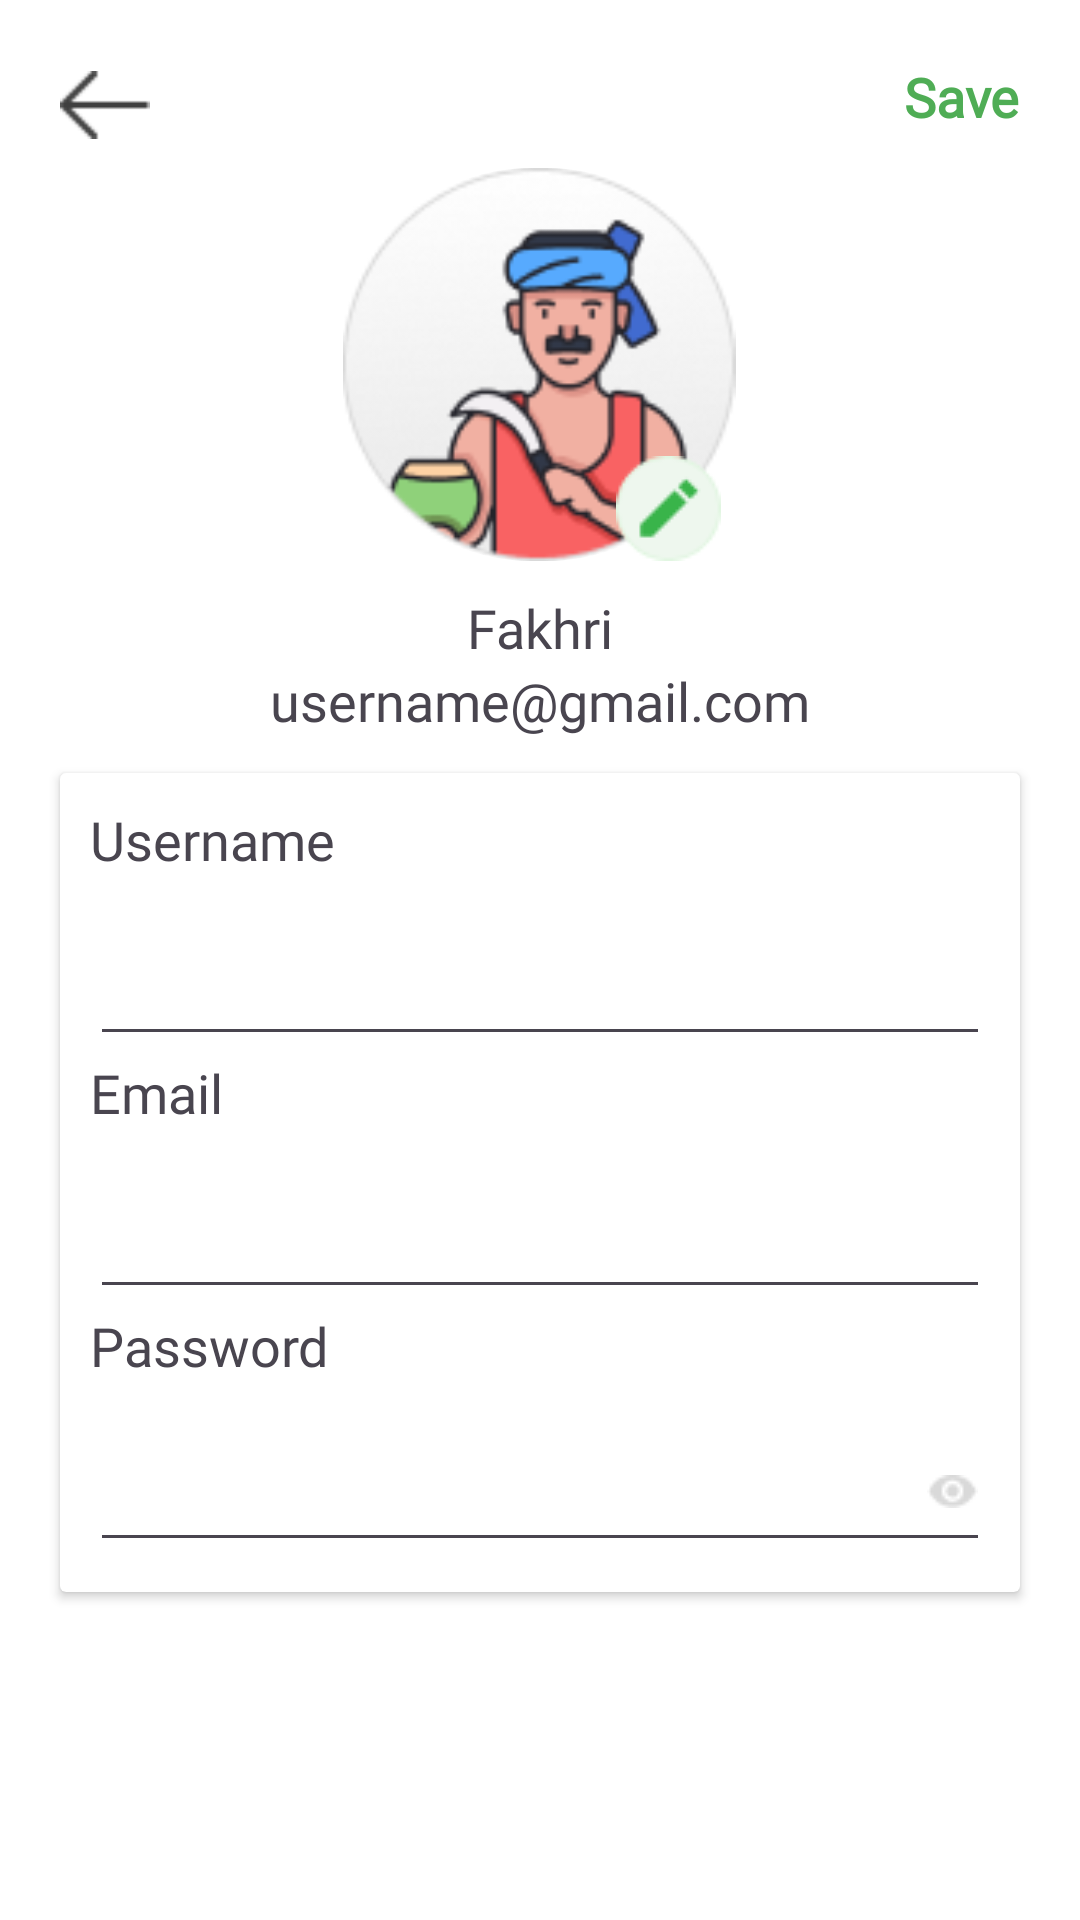

Where icons sit on this 1080 x 1920 app screen, as (x1, y1, x2, y2):
back: (60, 71, 150, 139)
